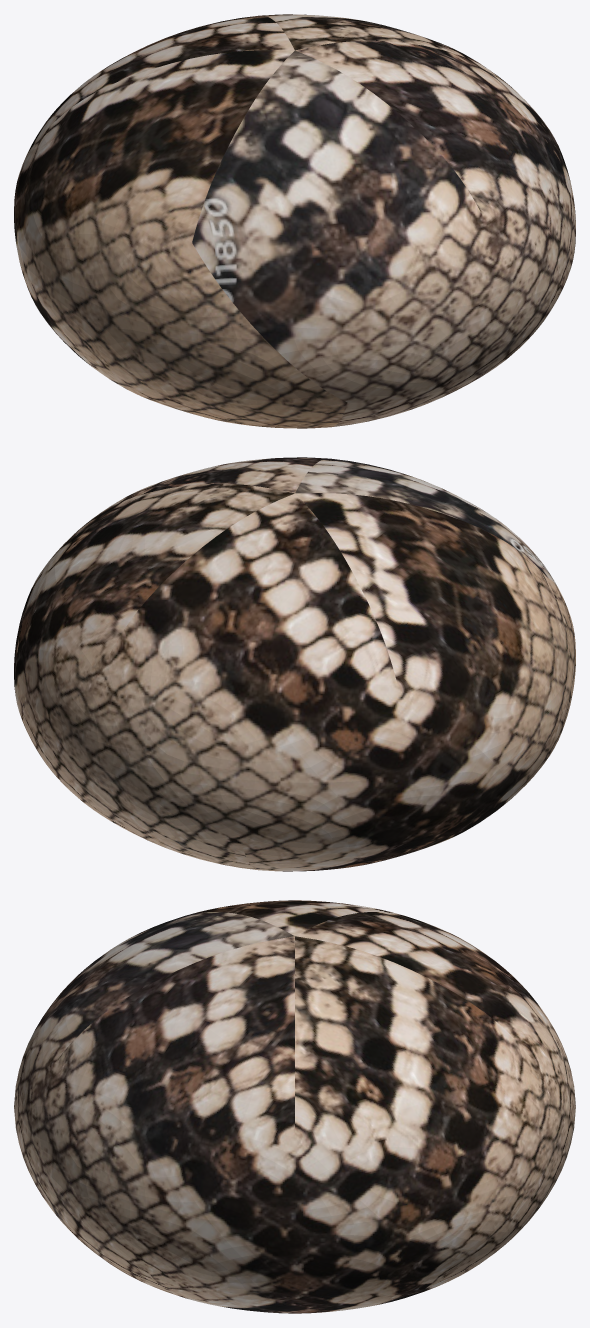
The model's file is bodypart.gltf.
The picture shows the model from 3 angles, top to bottom: view 1: azimuth 30°, elevation 25°; view 2: azimuth 150°, elevation 25°; view 3: azimuth 270°, elevation 25°; orthographic projection.
Parts seen in each view (by area): view 1: bodypart; view 2: bodypart; view 3: bodypart.
Boxes of the visible parts, x1,y1,x2,y2 form: bodypart: (14, 14, 575, 428); bodypart: (14, 457, 575, 871); bodypart: (14, 900, 575, 1313).
Bounding box in the file's own units: 2.77 × 1.86 × 2.77.
Materials: 1 (1 with a texture image).
